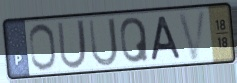A: (149, 15, 183, 63)
O: (27, 22, 59, 72)
Q: (119, 15, 151, 65)
U: (55, 17, 89, 71), (87, 16, 120, 69)
V: (176, 7, 209, 63)
